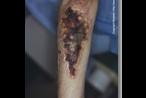NonPU: (56, 0, 91, 81)
